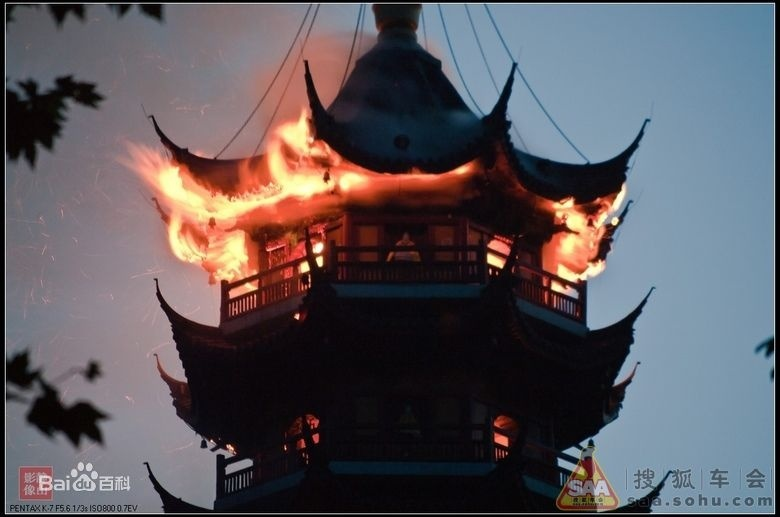fire: (119, 99, 369, 277), (548, 185, 626, 284)
